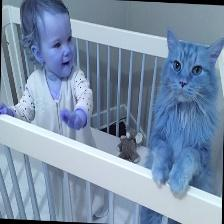kedo: (148, 29, 224, 192)
